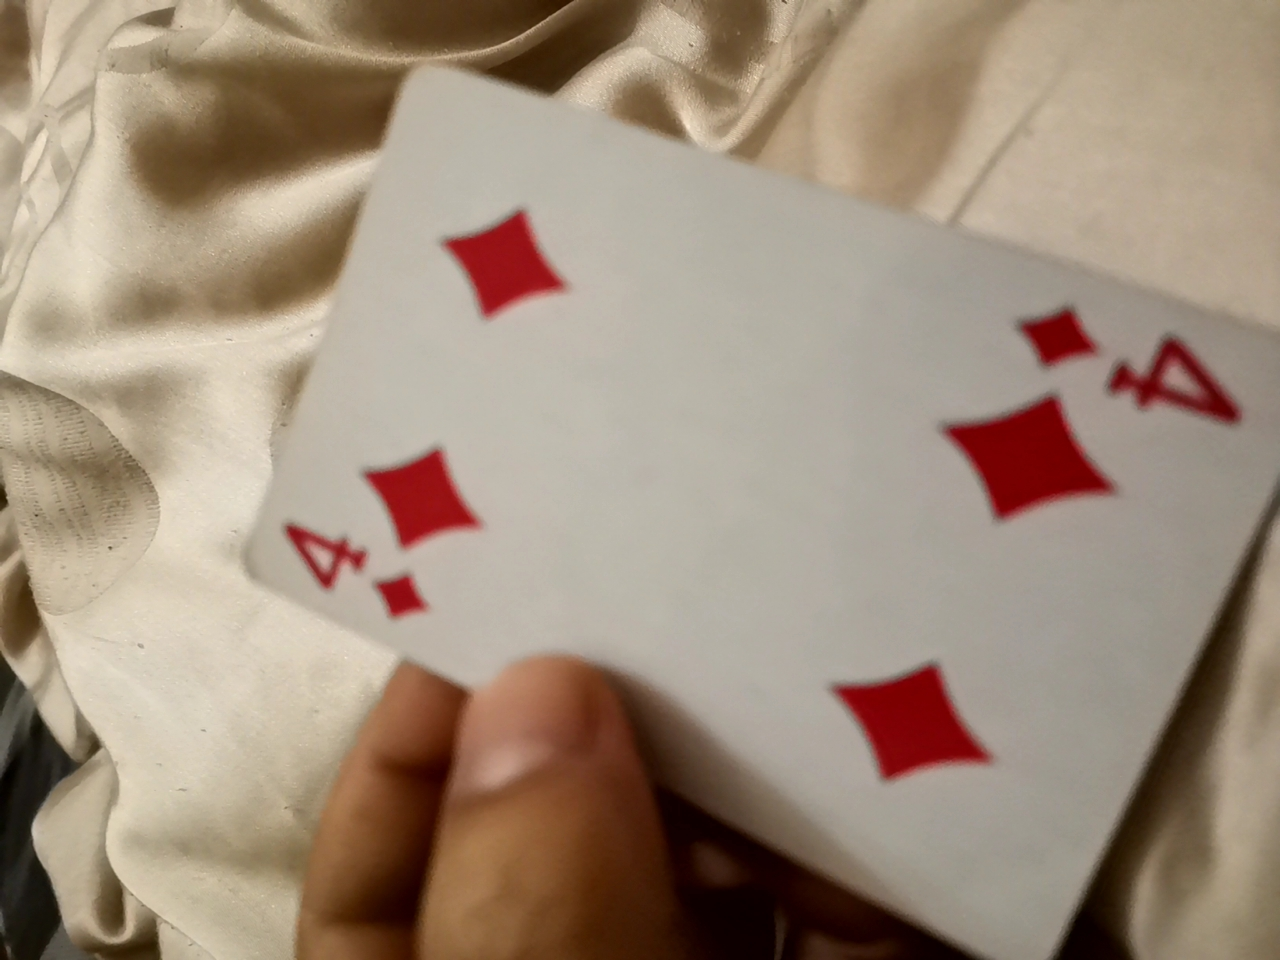fk 4: (202, 17, 1267, 948)
